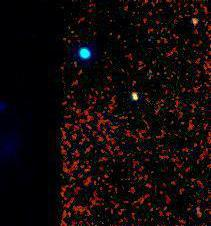star: (178, 2, 208, 32)
